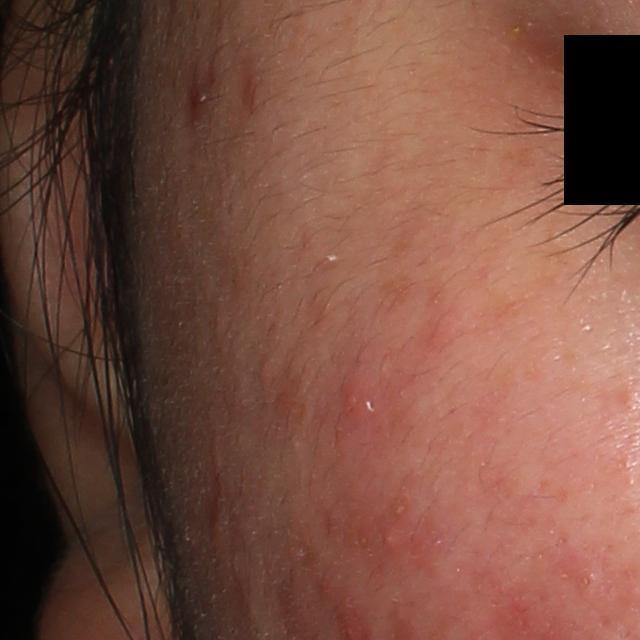papule: (330, 365, 368, 418)
